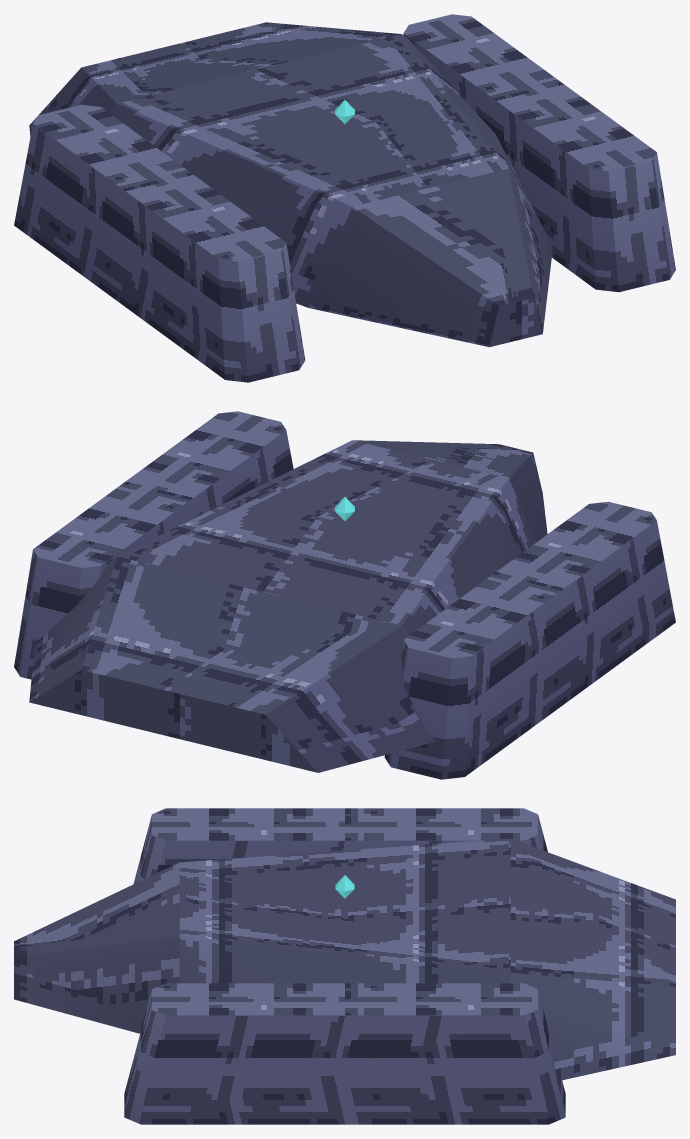
Rendered from cysky.cargo.glb.
3 views of the same model, one above another, from view 1: azimuth 30°, elevation 25°; view 2: azimuth 150°, elevation 25°; view 3: azimuth 270°, elevation 25° (orthographic). The views are drawn at different scales.
Parts seen in each view (by area): view 1: kit_body; view 2: kit_body; view 3: kit_body.
Boxes of the visible parts, left/top/right/bottom form: kit_body: left=14, top=14, right=675, bottom=382; kit_body: left=14, top=411, right=675, bottom=779; kit_body: left=14, top=808, right=675, bottom=1124.
Bounding box in the file's own units: 3.65 × 1.15 × 4.8.
Materials: 3 (3 with a texture image).
